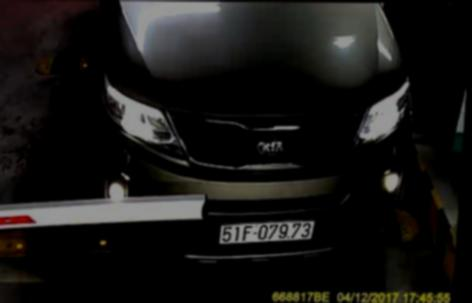License_Plate: (217, 216, 317, 245)
